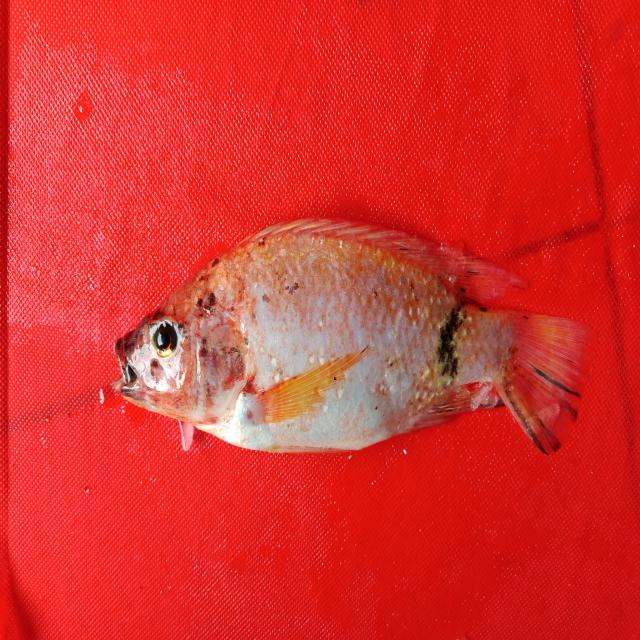ikan: (111, 215, 592, 458)
